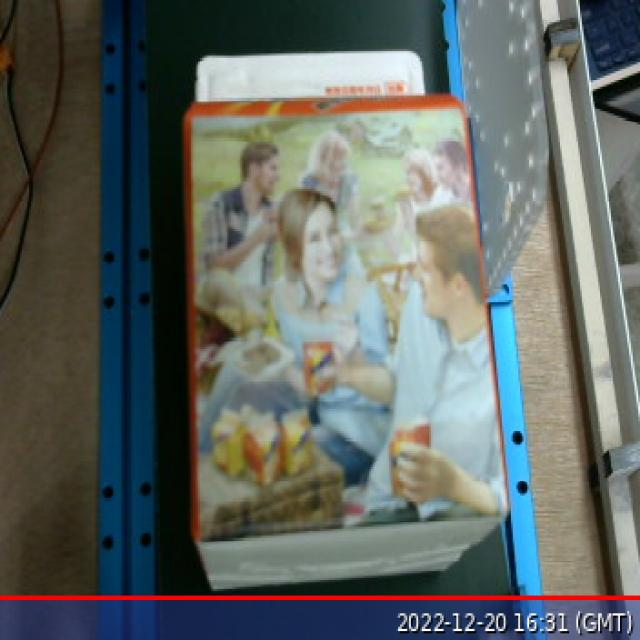non_white_jug: (178, 27, 522, 585)
